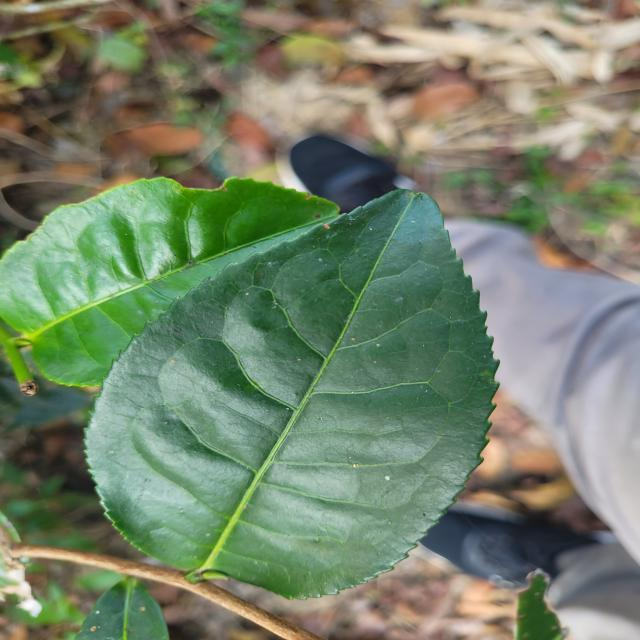Category D 7+ days, Not for Tea: (81, 166, 504, 598)
